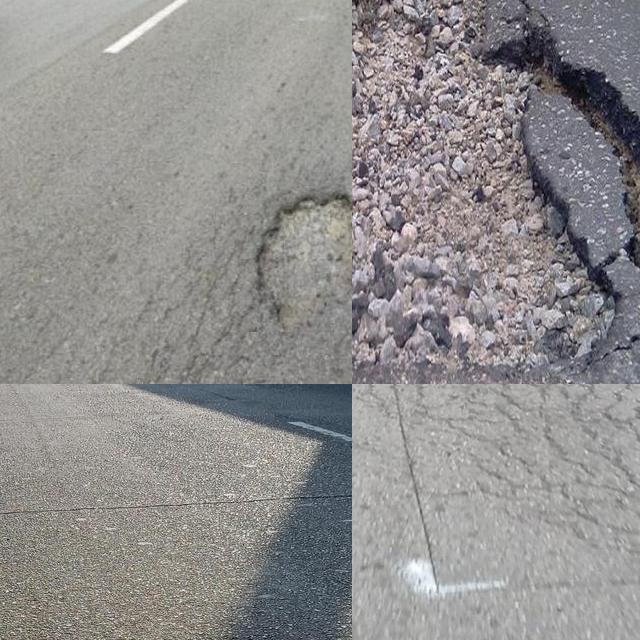Lubang: (352, 0, 640, 372), (256, 200, 352, 338)
Melintang: (0, 483, 352, 524)
Retak Buaya: (408, 384, 640, 599)
